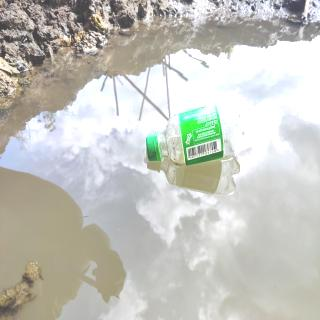bottle: (144, 96, 248, 168)
